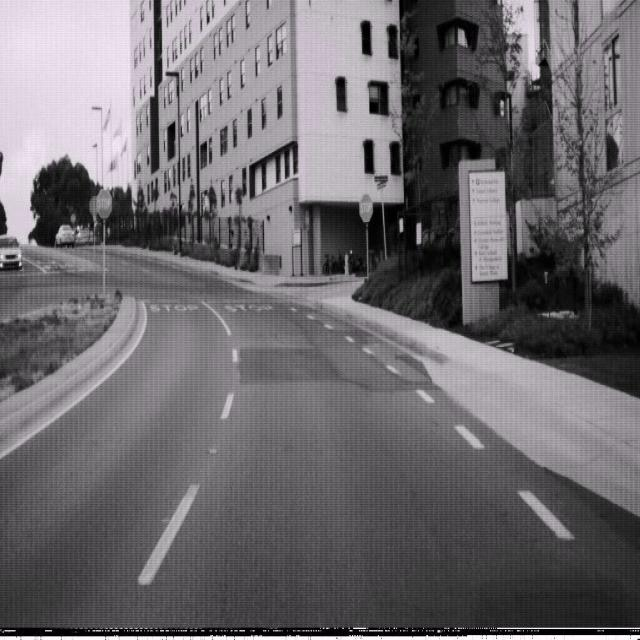stop: (96, 188, 112, 220), (359, 193, 373, 223)
